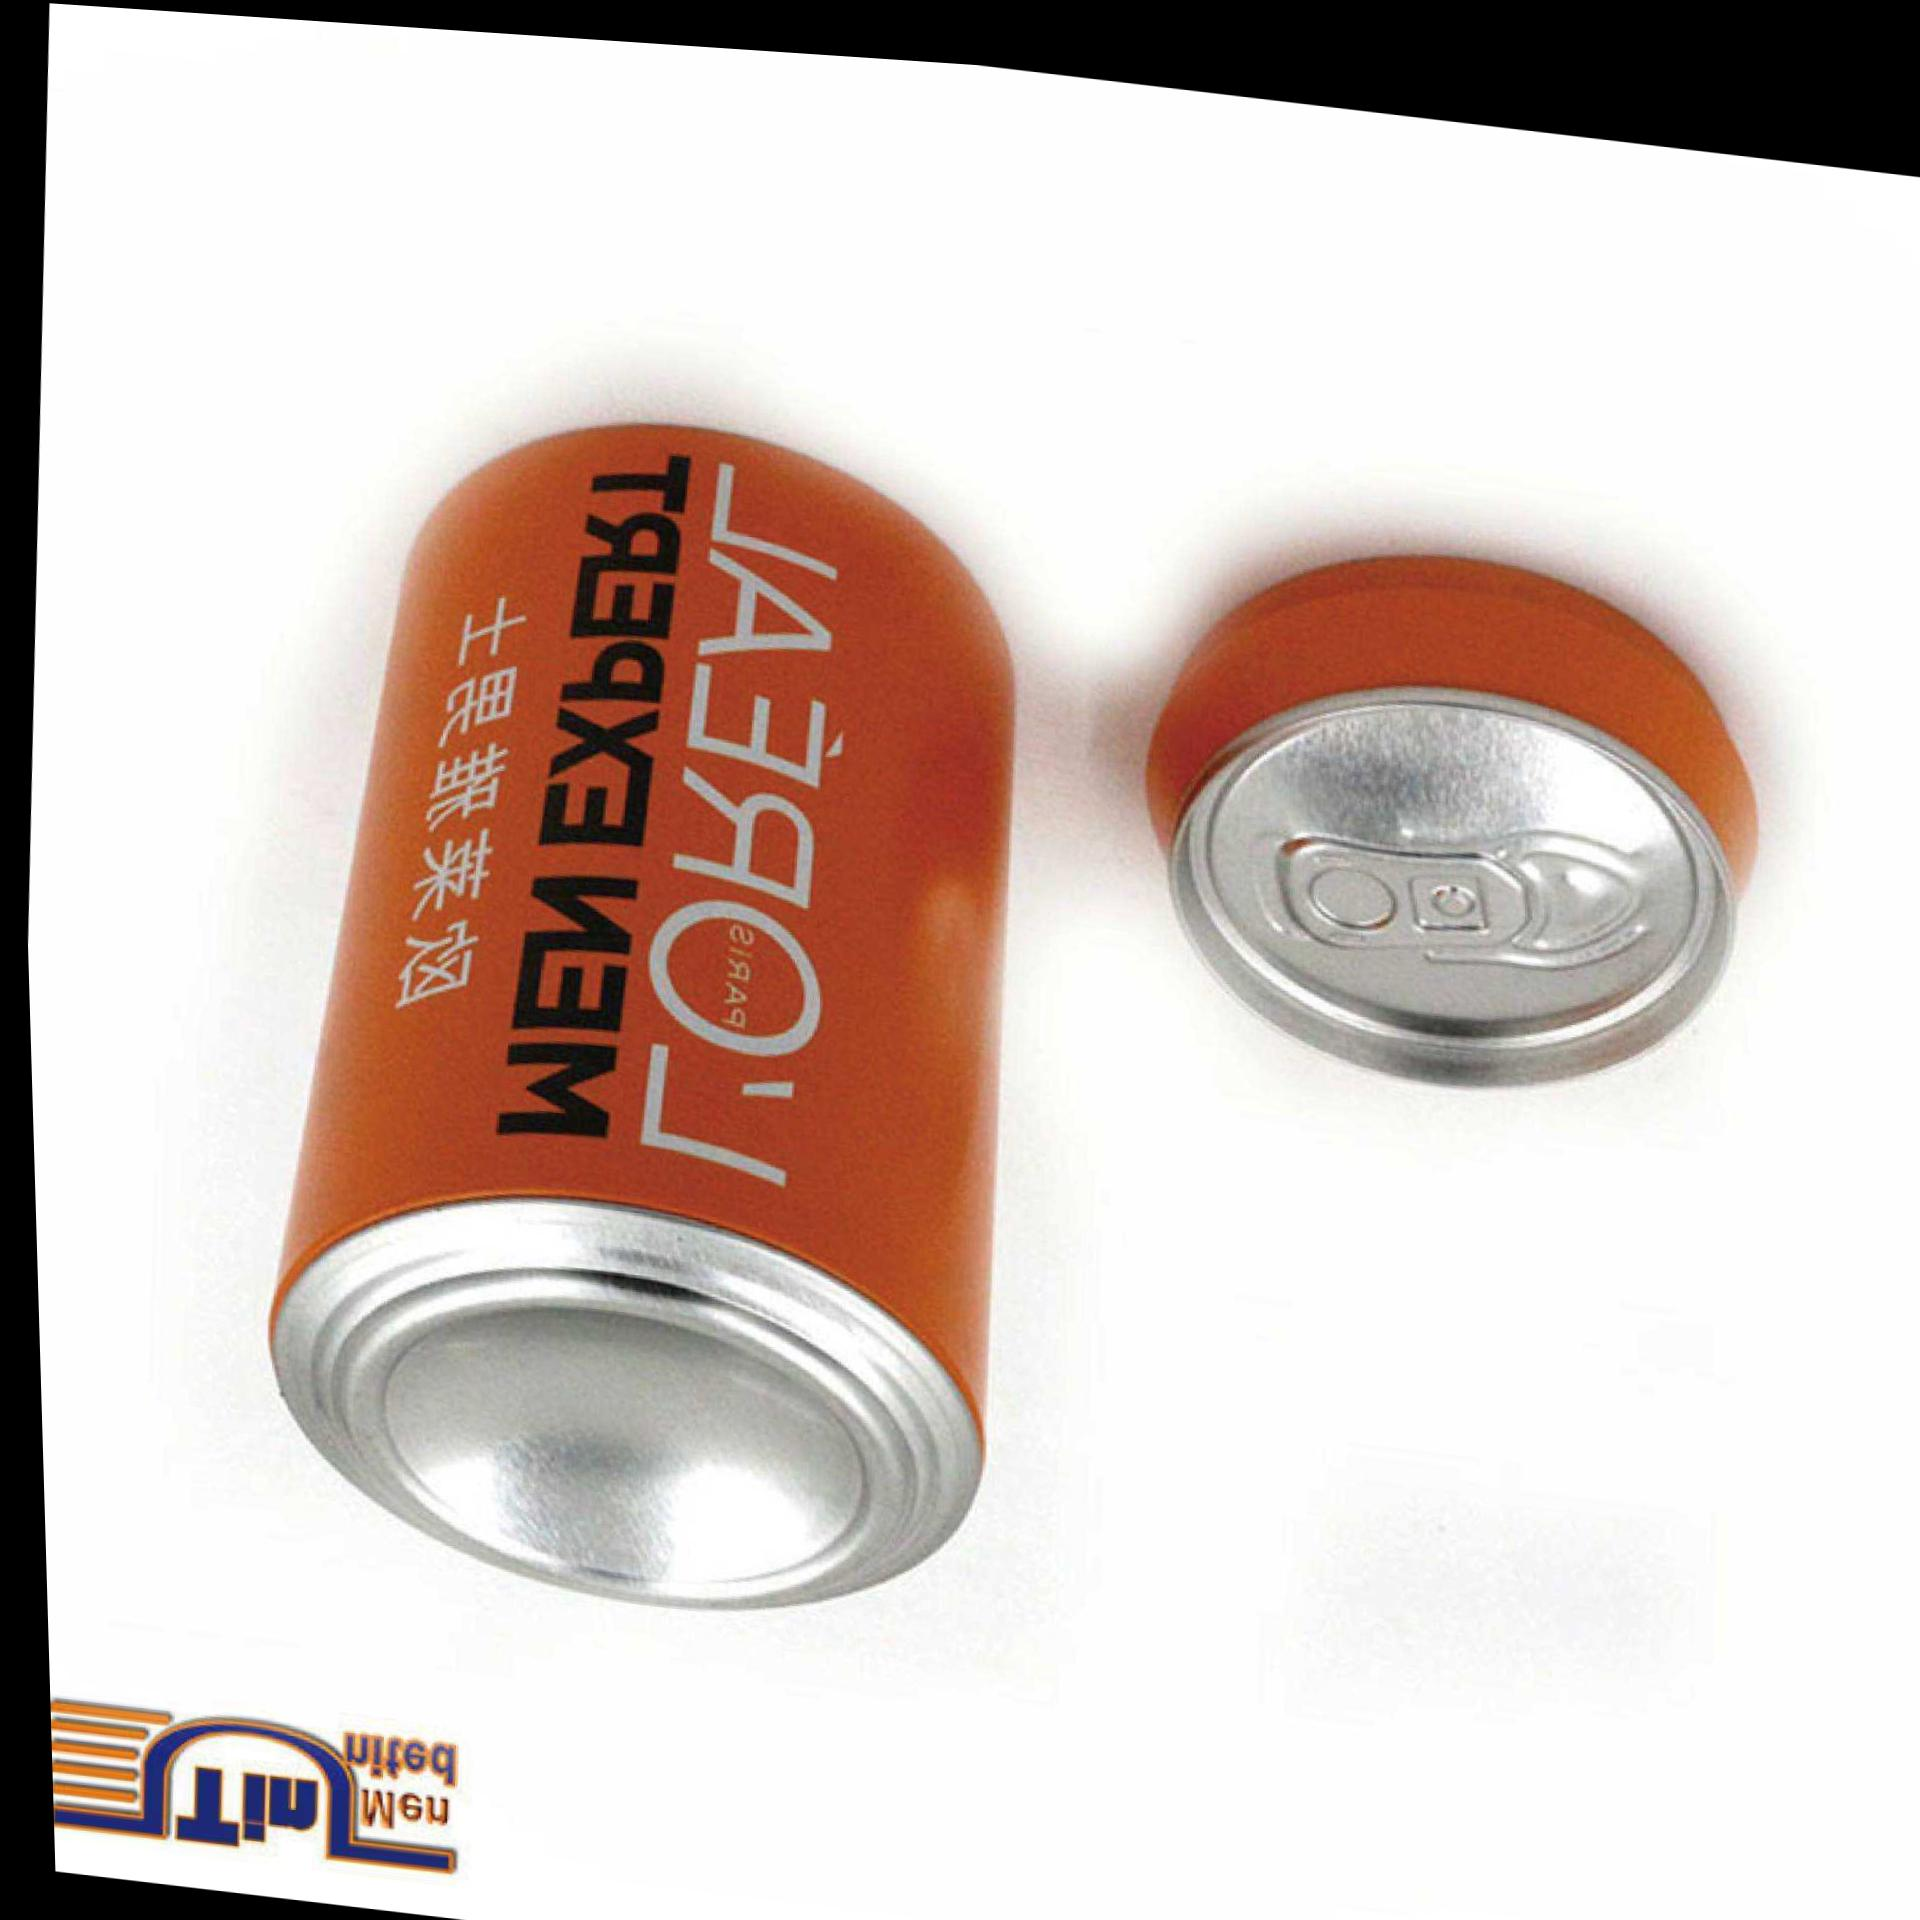metal: (274, 425, 1011, 1602), (1148, 557, 1756, 1085)
